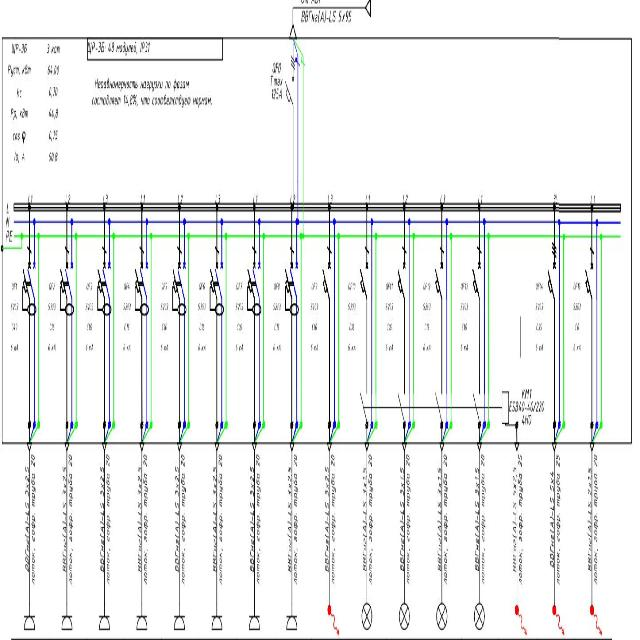-: (88, 37, 152, 57), (508, 397, 546, 427), (270, 298, 282, 354), (46, 299, 58, 355), (158, 297, 170, 353), (196, 297, 208, 353), (8, 299, 20, 355), (533, 300, 544, 356), (233, 299, 244, 355), (458, 298, 469, 354), (422, 300, 433, 356), (84, 297, 95, 353), (309, 298, 320, 354), (121, 297, 132, 353), (346, 300, 357, 356), (384, 300, 394, 356), (572, 298, 582, 354), (270, 74, 284, 100)
KM: (358, 386, 509, 426)
QF: (546, 238, 556, 304), (284, 54, 296, 108), (584, 247, 596, 300), (321, 245, 332, 299), (358, 245, 369, 299), (397, 246, 408, 300), (434, 246, 445, 300), (471, 246, 482, 300)
QFD: (22, 244, 38, 318), (59, 247, 75, 321), (96, 242, 112, 316), (134, 243, 150, 317), (172, 244, 188, 318), (208, 244, 224, 318), (246, 244, 262, 318), (284, 243, 300, 317)
